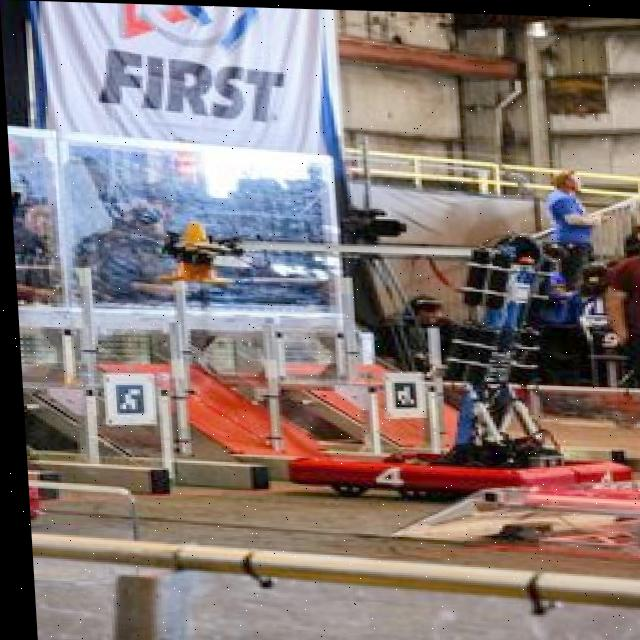robot: (142, 181, 625, 496)
